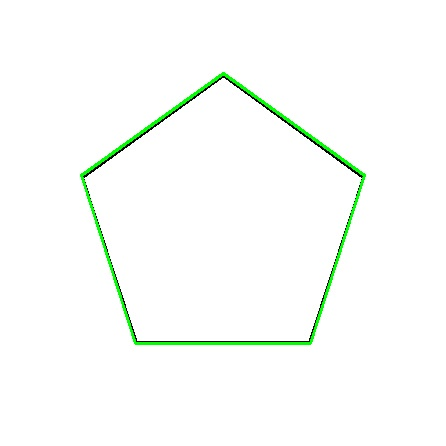line_segment: (80, 73, 366, 345)
